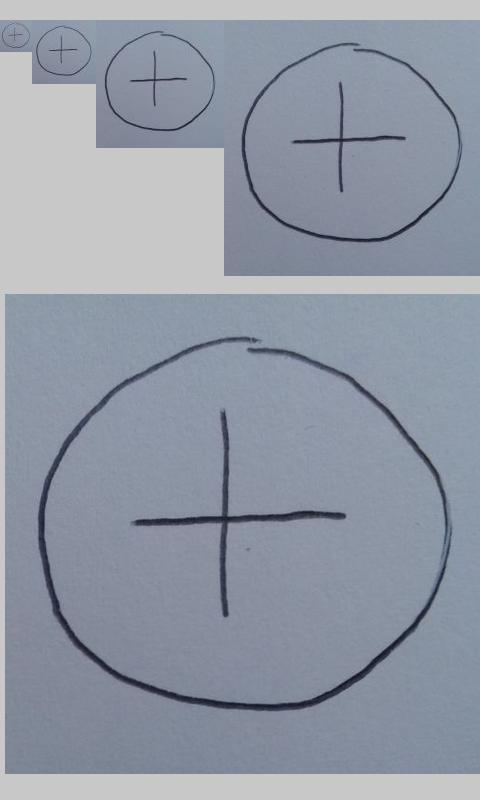button: (35, 334, 454, 712), (241, 42, 463, 243), (104, 30, 216, 132), (36, 25, 93, 76), (2, 22, 31, 48)
